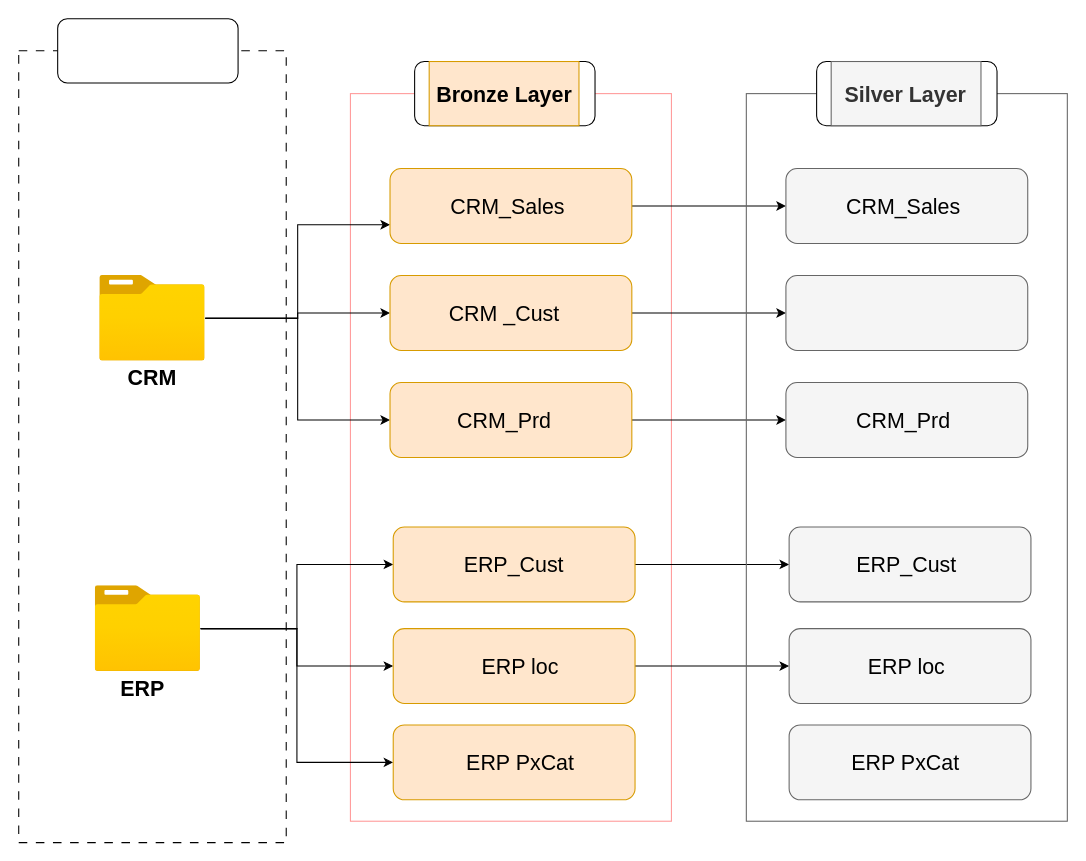
This 1086x861 diagram has some shape labels left out. Each missing label, with the box of its shape:
CRM_Cust: (785, 274, 1028, 350)
SOURCES: (57, 18, 238, 83)
